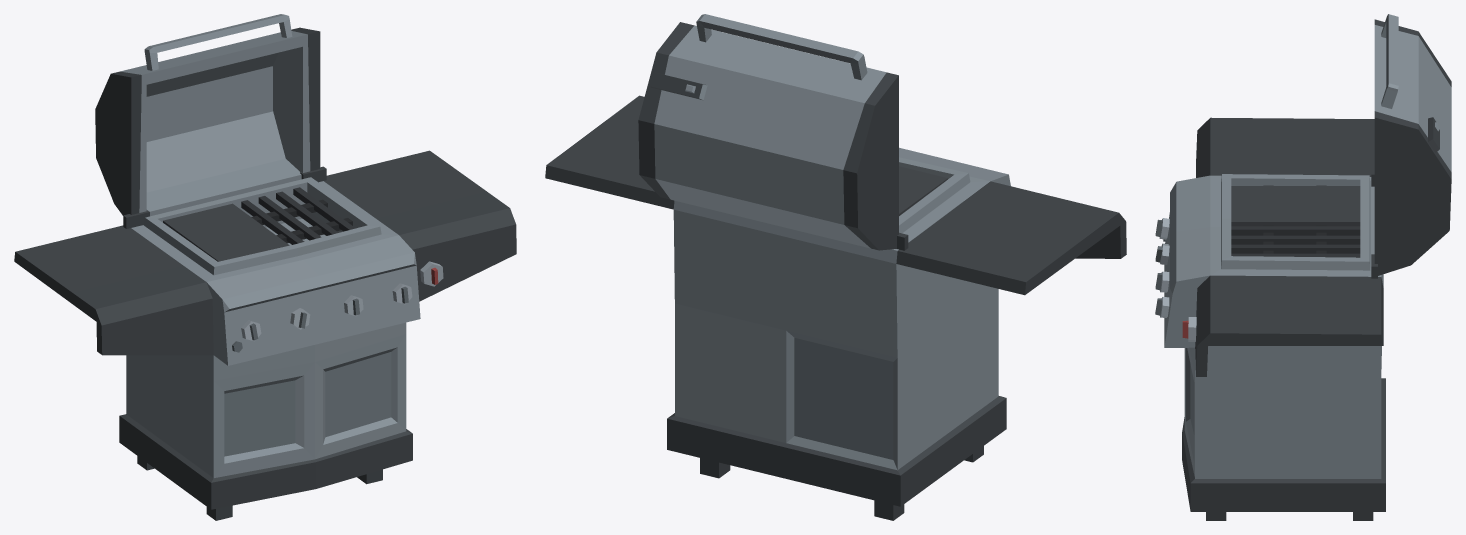
The model's file is Barbeque.fbx.
The picture shows the model from 3 angles, left to right: view 1: azimuth 30°, elevation 25°; view 2: azimuth 150°, elevation 25°; view 3: azimuth 270°, elevation 25°; orthographic projection. The views are drawn at different scales.
Parts seen in each view (by area): view 1: Barbeque; view 2: Barbeque; view 3: Barbeque.
Boxes of the visible parts, left/top/right/bottom form: Barbeque: left=14, top=14, right=516, bottom=520; Barbeque: left=545, top=14, right=1126, bottom=520; Barbeque: left=1155, top=14, right=1451, bottom=520.
Size of the model in its own units: 176 by 165 by 102.
1 material, 1 textured.
